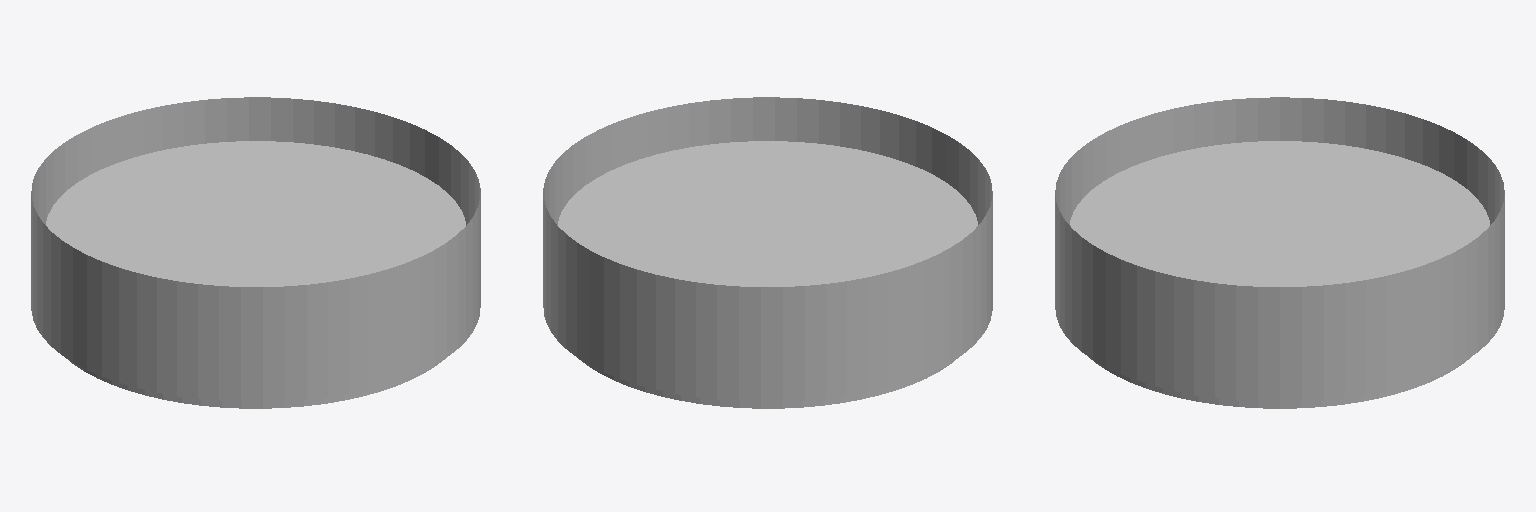
Rendered from drumsetV4_SmaolDrumBody001.obj.
3 renders of one model, left to right at view 1: azimuth 30°, elevation 25°; view 2: azimuth 150°, elevation 25°; view 3: azimuth 270°, elevation 25°, orthographic.
Parts seen in each view (by area): view 1: drumsetV4_SmaolDrumBody001_Cylinder.033; view 2: drumsetV4_SmaolDrumBody001_Cylinder.033; view 3: drumsetV4_SmaolDrumBody001_Cylinder.033.
Boxes of the visible parts, x1,y1,x2,y2 form: drumsetV4_SmaolDrumBody001_Cylinder.033: [31, 97, 480, 408]; drumsetV4_SmaolDrumBody001_Cylinder.033: [543, 97, 992, 408]; drumsetV4_SmaolDrumBody001_Cylinder.033: [1055, 97, 1504, 408].
Bounding box in the file's own units: 1.44 × 0.4488 × 1.44.